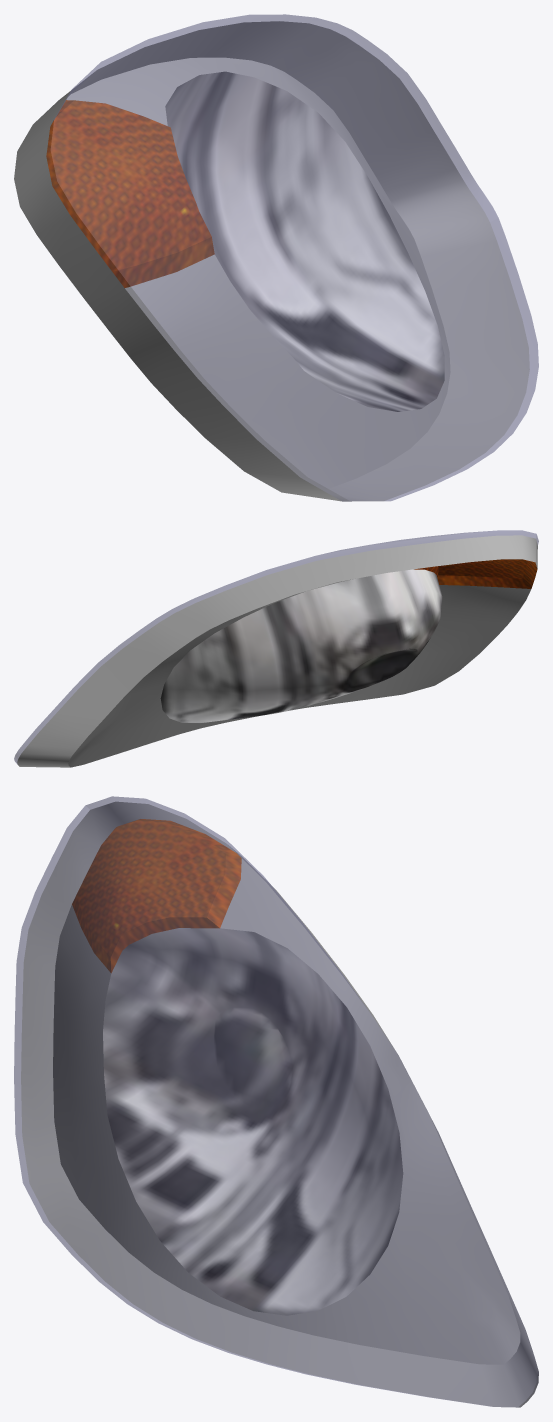
The picture shows the model from 3 angles, top to bottom: view 1: azimuth 30°, elevation 25°; view 2: azimuth 150°, elevation 25°; view 3: azimuth 270°, elevation 25°; orthographic projection. The views are drawn at different scales.
Parts seen in each view (by area): view 1: H811_061B_R_H811_061B_R_5_DTaSI, H811_061B_R_1_DaS_H811_061B_R, H811_061B_R_H811_061B_R_2_N, H811_061B_R_H811_061B_R_3_N; view 2: H811_061B_R_1_DaS_H811_061B_R, H811_061B_R_H811_061B_R_2_N, H811_061B_R_H811_061B_R_5_DTaSI, H811_061B_R_H811_061B_R_3_N; view 3: H811_061B_R_H811_061B_R_5_DTaSI, H811_061B_R_1_DaS_H811_061B_R, H811_061B_R_H811_061B_R_2_N, H811_061B_R_H811_061B_R_3_N.
Boxes of the visible parts, <box> form: H811_061B_R_H811_061B_R_5_DTaSI: <box>46,14,538,501</box>; H811_061B_R_1_DaS_H811_061B_R: <box>14,21,529,501</box>; H811_061B_R_H811_061B_R_2_N: <box>165,71,444,411</box>; H811_061B_R_H811_061B_R_3_N: <box>46,100,214,287</box>; H811_061B_R_1_DaS_H811_061B_R: <box>17,535,537,767</box>; H811_061B_R_H811_061B_R_2_N: <box>160,569,442,723</box>; H811_061B_R_H811_061B_R_5_DTaSI: <box>14,530,538,764</box>; H811_061B_R_H811_061B_R_3_N: <box>414,559,537,588</box>; H811_061B_R_H811_061B_R_5_DTaSI: <box>14,796,538,1407</box>; H811_061B_R_1_DaS_H811_061B_R: <box>21,801,538,1407</box>; H811_061B_R_H811_061B_R_2_N: <box>103,928,403,1315</box>; H811_061B_R_H811_061B_R_3_N: <box>72,819,241,972</box>.
Size of the model in its own units: 48.85 by 28.51 by 38.28.
